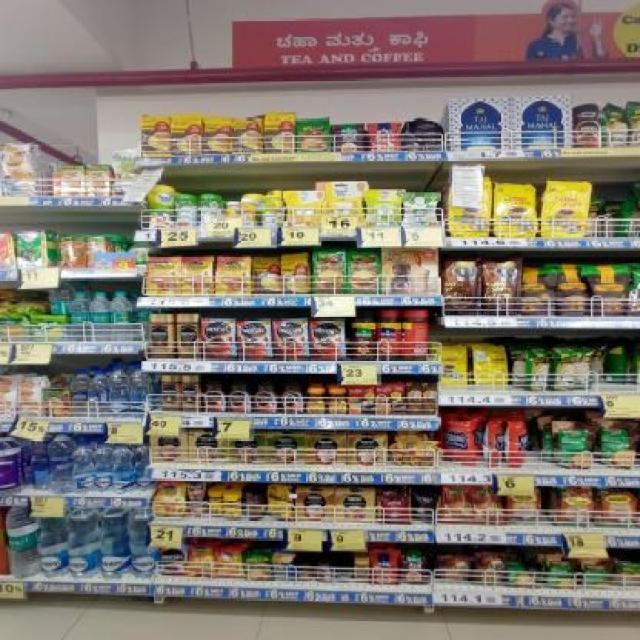Coffee: (214, 258, 250, 297), (180, 257, 212, 298), (202, 319, 236, 357), (274, 319, 308, 357), (238, 319, 271, 357), (311, 321, 344, 358), (146, 258, 178, 296), (177, 315, 201, 359), (150, 315, 174, 358), (157, 481, 185, 517), (188, 543, 214, 575), (253, 380, 276, 413), (280, 381, 303, 414), (216, 549, 242, 577), (228, 380, 250, 412), (204, 380, 225, 412), (161, 548, 185, 575), (162, 377, 180, 411), (182, 377, 200, 411), (305, 388, 323, 414), (328, 388, 346, 414), (354, 559, 368, 581), (316, 560, 330, 582), (336, 570, 350, 582)
